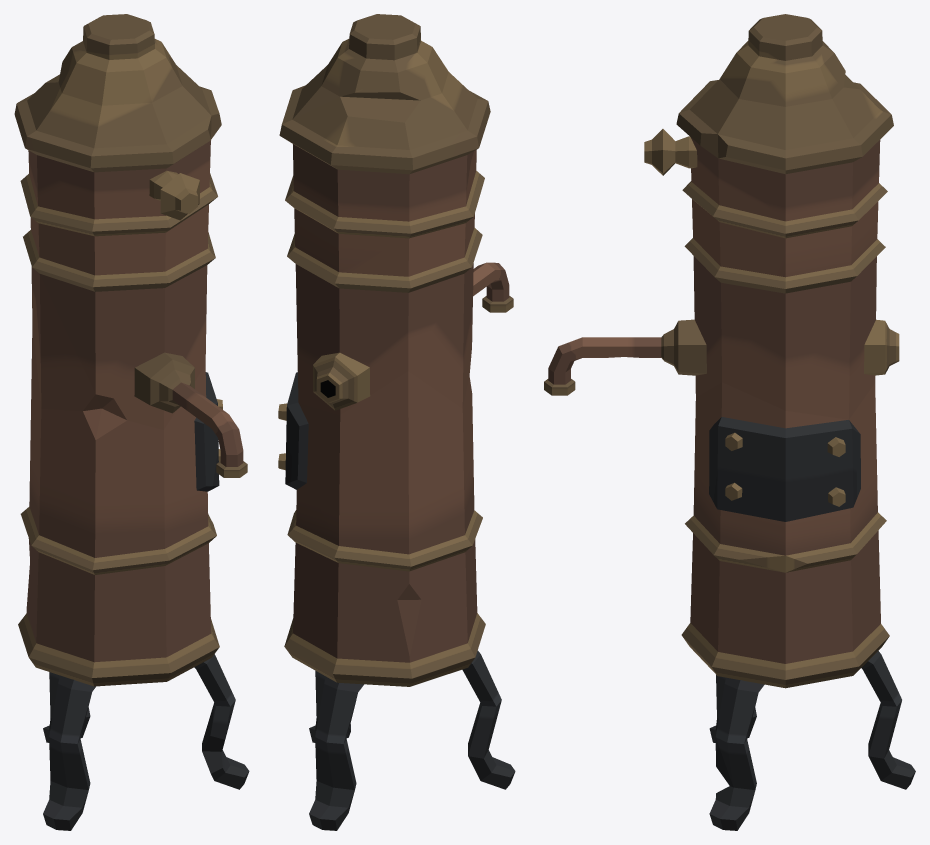
Rendered from SM_Prop_Water_Heater_02.fbx.
3 renders of one model, left to right at view 1: azimuth 30°, elevation 25°; view 2: azimuth 150°, elevation 25°; view 3: azimuth 270°, elevation 25°, orthographic.
Visible parts, largest first — view 1: SM_Prop_Water_Heater_02; view 2: SM_Prop_Water_Heater_02; view 3: SM_Prop_Water_Heater_02.
Boxes of the visible parts, x1,y1,x2,y2 form: SM_Prop_Water_Heater_02: (14,14,249,830); SM_Prop_Water_Heater_02: (278,14,515,830); SM_Prop_Water_Heater_02: (544,14,915,830).
Bounding box in the file's own units: 57.13 × 205 × 91.22.
